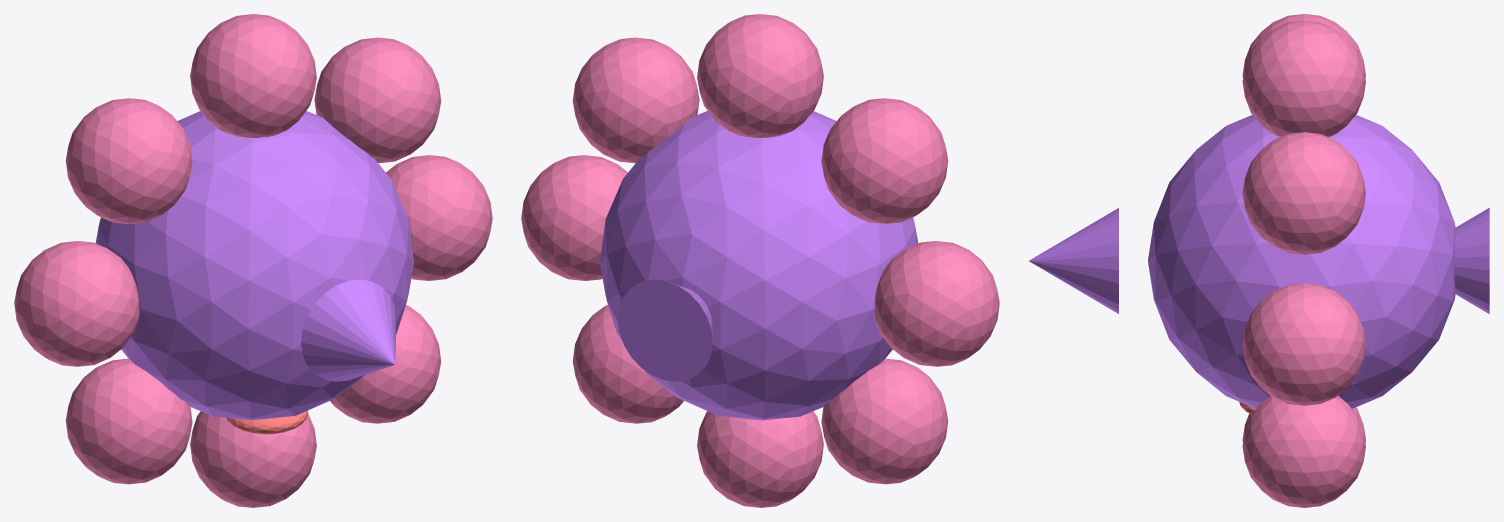
Rendered from spike_mine.glb.
The picture shows the model from 3 angles, left to right: view 1: azimuth 30°, elevation 25°; view 2: azimuth 150°, elevation 25°; view 3: azimuth 270°, elevation 25°; orthographic projection. The views are drawn at different scales.
Visible parts, largest first — view 1: purple, pink_3, pink_4, pink_2, pink_5, pink_1, pink, pink_6, purple_2, pink_7, red; view 2: purple, pink_3, pink_4, pink_2, pink_5, pink_1, pink_6, pink, purple_1, pink_7; view 3: purple, pink_1, pink, pink_2, pink_7, purple_2, purple_1, pink_3.
Part boxes in pixels (bbox=[...]): purple: bbox=[95, 111, 413, 420]; pink_3: bbox=[65, 98, 192, 223]; pink_4: bbox=[14, 241, 139, 366]; pink_2: bbox=[190, 14, 316, 137]; pink_5: bbox=[65, 358, 192, 484]; pink_1: bbox=[314, 37, 441, 163]; pink: bbox=[386, 155, 492, 280]; pink_6: bbox=[190, 411, 316, 507]; purple_2: bbox=[301, 279, 396, 381]; pink_7: bbox=[330, 304, 441, 423]; red: bbox=[226, 410, 308, 434]; purple: bbox=[600, 111, 918, 420]; pink_3: bbox=[821, 98, 948, 223]; pink_4: bbox=[874, 241, 999, 366]; pink_2: bbox=[697, 14, 823, 137]; pink_5: bbox=[821, 358, 948, 484]; pink_1: bbox=[572, 37, 699, 163]; pink_6: bbox=[697, 411, 823, 507]; pink: bbox=[521, 155, 627, 280]; purple_1: bbox=[617, 279, 712, 381]; pink_7: bbox=[572, 304, 683, 423]; purple: bbox=[1148, 115, 1455, 408]; pink_1: bbox=[1242, 132, 1365, 254]; pink: bbox=[1242, 283, 1365, 405]; pink_2: bbox=[1242, 20, 1365, 137]; pink_7: bbox=[1242, 395, 1365, 507]; purple_2: bbox=[1029, 208, 1118, 313]; purple_1: bbox=[1454, 208, 1489, 313]; pink_3: bbox=[1242, 14, 1365, 77].
Bounding box in the file's own units: 1.26 × 1.26 × 1.12.
